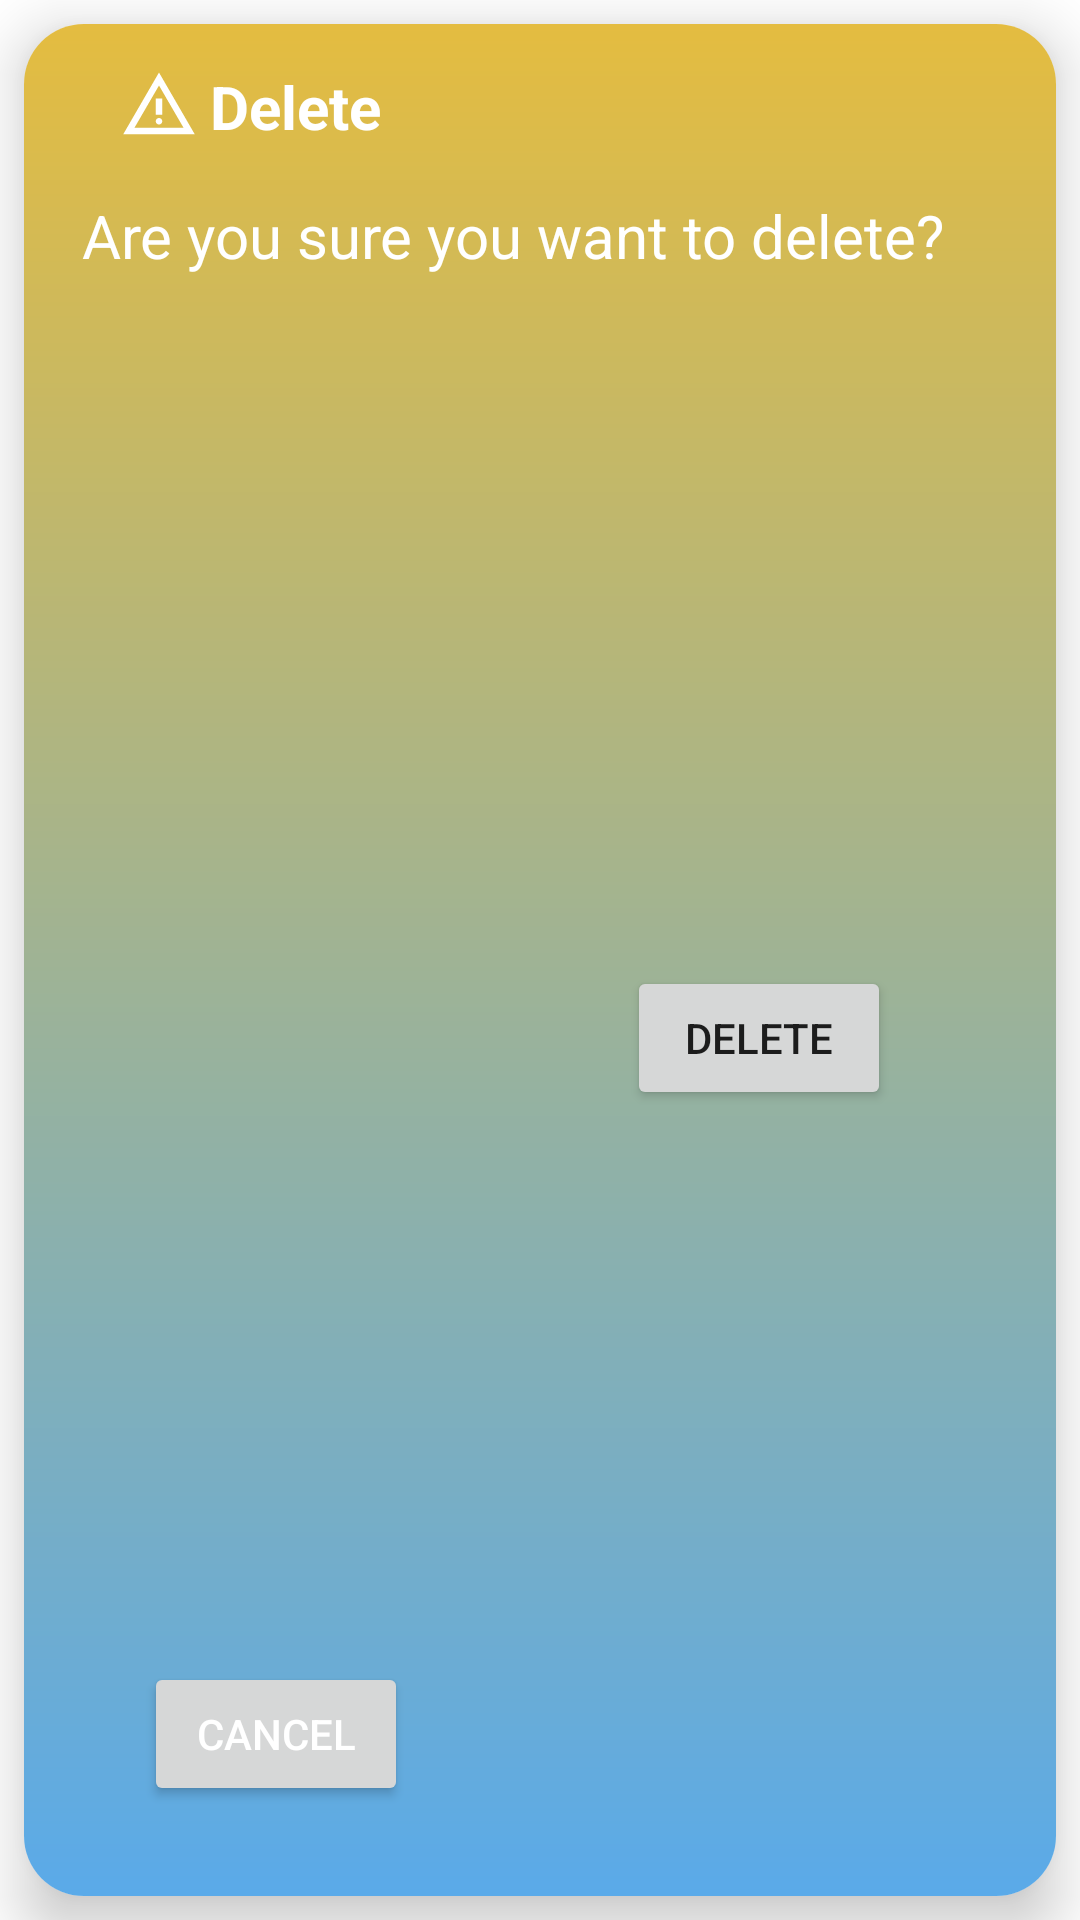

Screen size 1080px x 1920px. Icon name, then its box in pixels as [x1, y1, x2, y2]:
warning: [123, 73, 195, 135]
